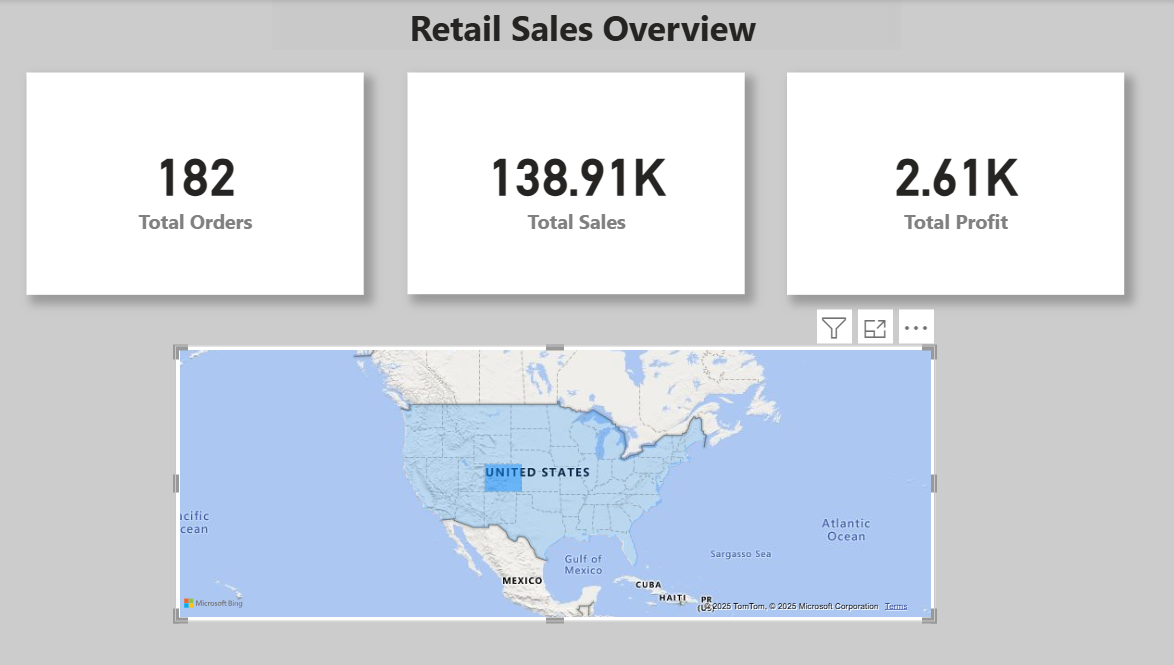

The dashboard page shown, as its layout file describes it:
{"tool":"powerbi","page":{"name":"Page 2","canvas":[1280,720],"ordinal":0},"visuals":[{"type":"card","fields":{"Values":["df_orders (2).TotalOrders"]},"box":[37.2,79.9,364,240],"z":0},{"type":"filledMap","fields":{"Category":["df_orders (2).state"]},"box":[197.5,374,820.9,297.9],"z":1000},{"type":"card","fields":{"Values":["df_orders (2).TotalSales"]},"box":[448.5,79.3,364.3,239.6],"z":2000},{"type":"textbox","box":[302.4,0,678.4,54.8],"z":3000},{"type":"card","fields":{"Values":["df_orders (2).TotalProfitMargin"]},"box":[858,79.4,364,240],"z":4000}]}

Visuals, with their boxes in screenshot pixels (x1, y1, x2, y2), scaled from the page's 1280x720 canvas onto the 1174x665 screenshot:
card - df_orders (2).TotalOrders: box(34, 74, 368, 295)
filledMap - df_orders (2).state: box(181, 345, 934, 621)
card - df_orders (2).TotalSales: box(411, 73, 745, 295)
textbox: box(277, 0, 900, 51)
card - df_orders (2).TotalProfitMargin: box(787, 73, 1121, 295)
